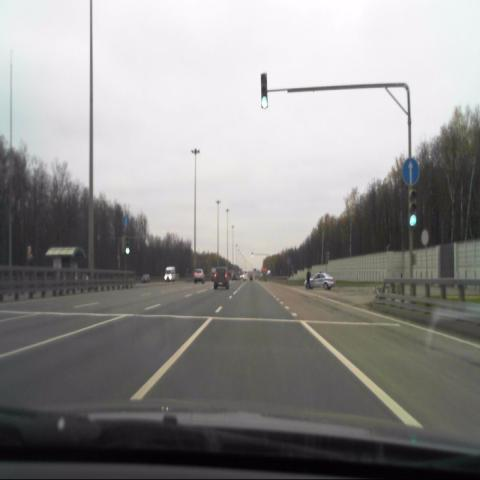4_1_1: (402, 156, 420, 188)
